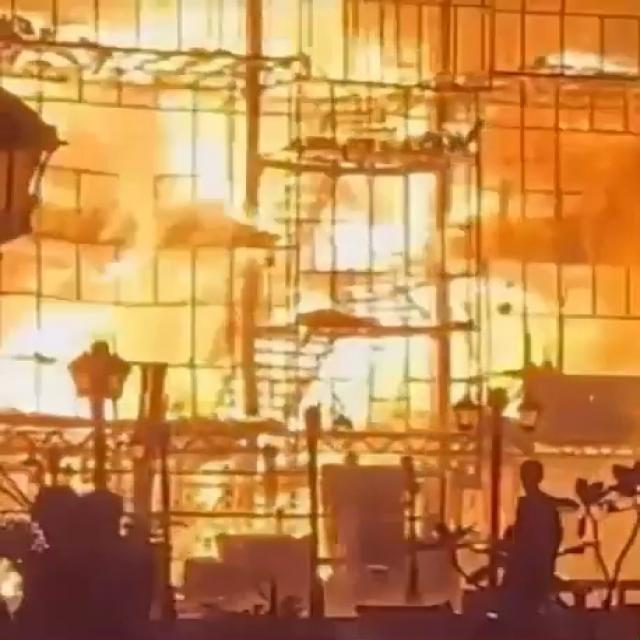Fire: (6, 41, 313, 362), (425, 139, 496, 325), (316, 340, 432, 429), (314, 176, 411, 281), (1, 325, 96, 429), (137, 0, 312, 55), (314, 0, 415, 86), (388, 181, 446, 327), (257, 301, 317, 423), (10, 0, 145, 50), (474, 278, 532, 380), (404, 172, 443, 278), (520, 49, 640, 80), (447, 335, 486, 406)
